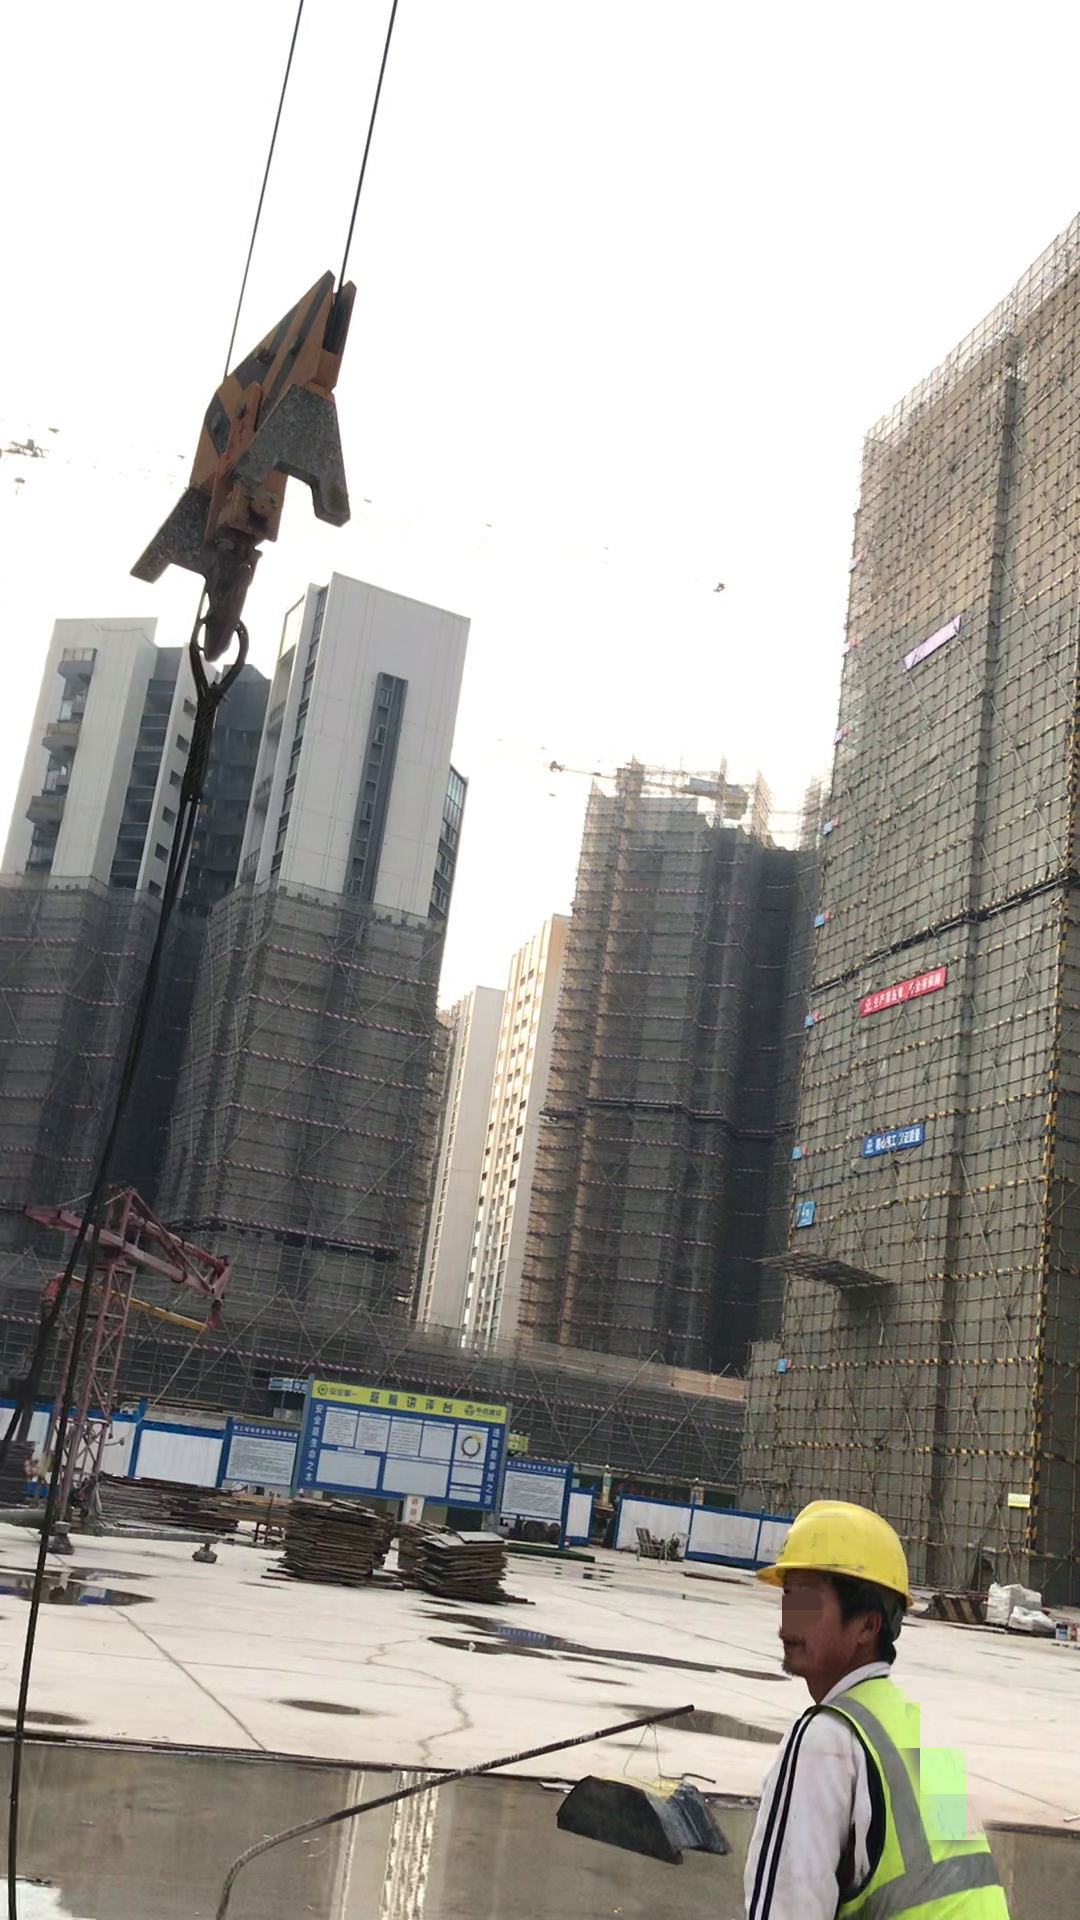board: (278, 1494, 392, 1582), (419, 1522, 509, 1604)
helmet: (759, 1493, 925, 1606)
hook: (128, 263, 380, 632)
person: (663, 1472, 1079, 1920)
slogan: (855, 961, 947, 1016), (291, 1401, 326, 1485), (862, 1123, 932, 1162), (482, 1425, 504, 1511)
vest: (796, 1670, 1018, 1918)
